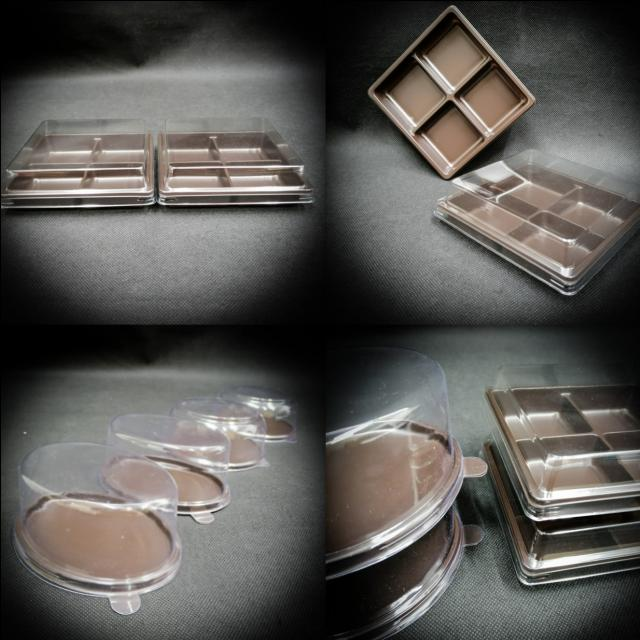plastik: (325, 346, 463, 574), (434, 150, 640, 294), (13, 440, 181, 613), (367, 5, 533, 178), (484, 364, 640, 519), (98, 413, 230, 522), (157, 116, 312, 204), (0, 119, 154, 207), (168, 396, 268, 470)
